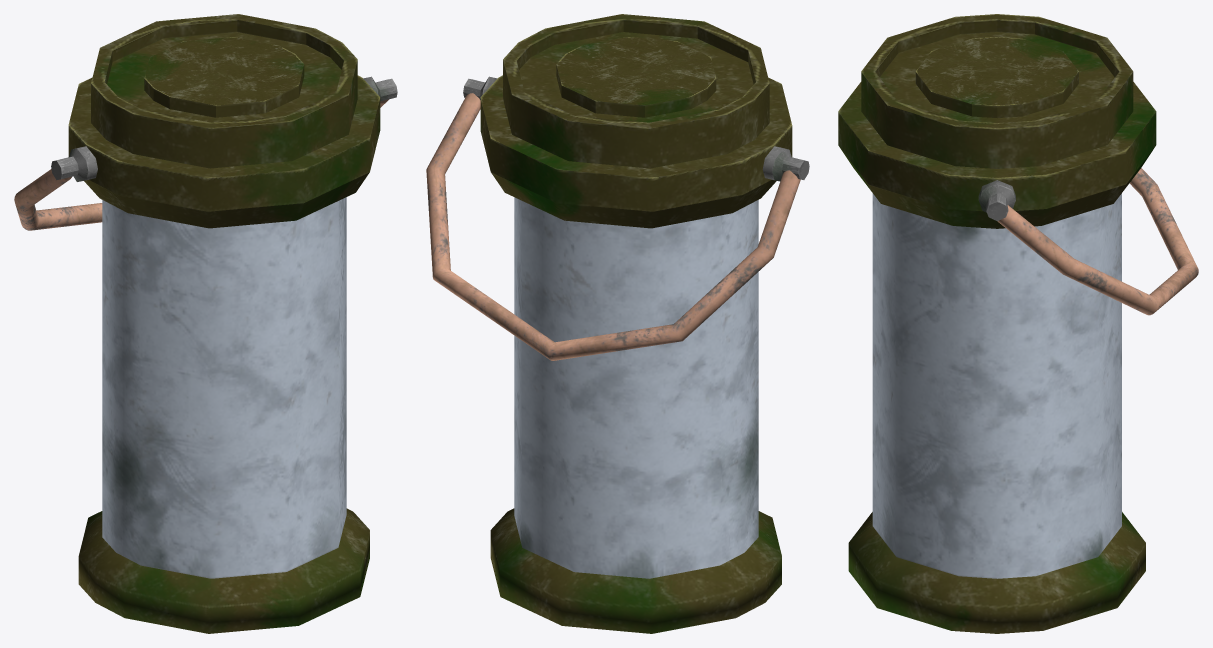
Rendered from Lampara_LP.fbx.
3 views of the same model, side by side, from view 1: azimuth 30°, elevation 25°; view 2: azimuth 150°, elevation 25°; view 3: azimuth 270°, elevation 25° (orthographic).
Visible parts, largest first — view 1: Lampara_LOD2; view 2: Lampara_LOD2; view 3: Lampara_LOD2.
Boxes of the visible parts, x1,y1,x2,y2 form: Lampara_LOD2: [14, 14, 397, 633]; Lampara_LOD2: [426, 14, 809, 633]; Lampara_LOD2: [838, 14, 1198, 633].
Bounding box in the file's own units: 5.25 × 7.25 × 4.74.
